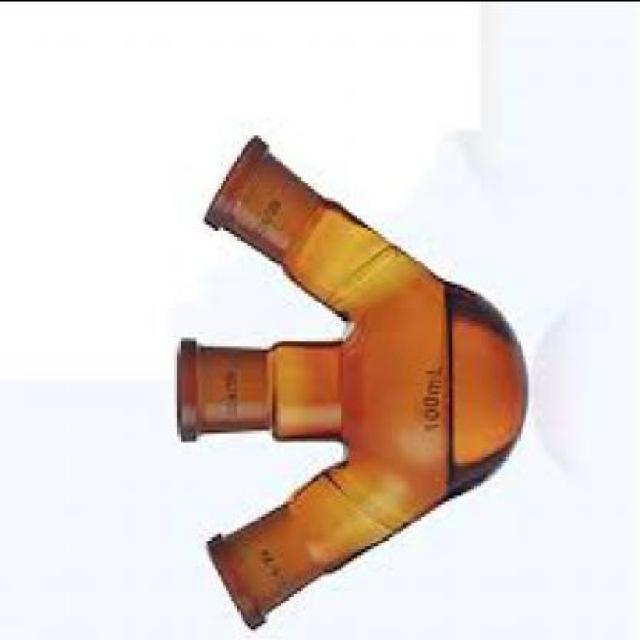GLASS: (174, 140, 528, 634)
